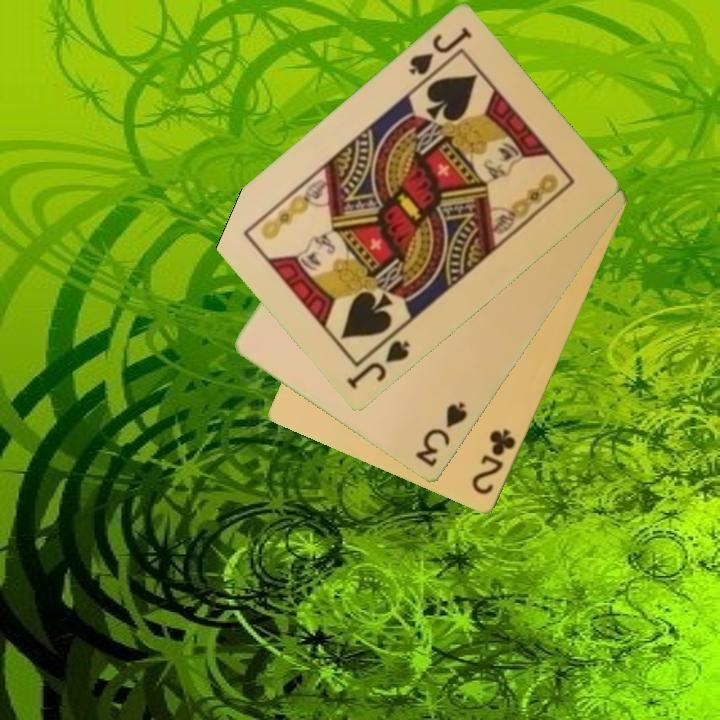2c: (468, 426, 519, 498)
3s: (412, 399, 471, 471)
Js: (405, 24, 475, 88), (343, 337, 413, 393)
